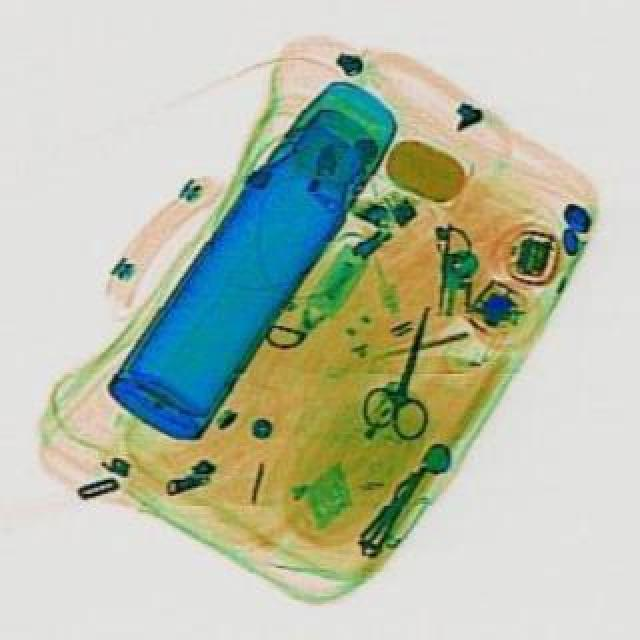pliers: (352, 294, 456, 442)
